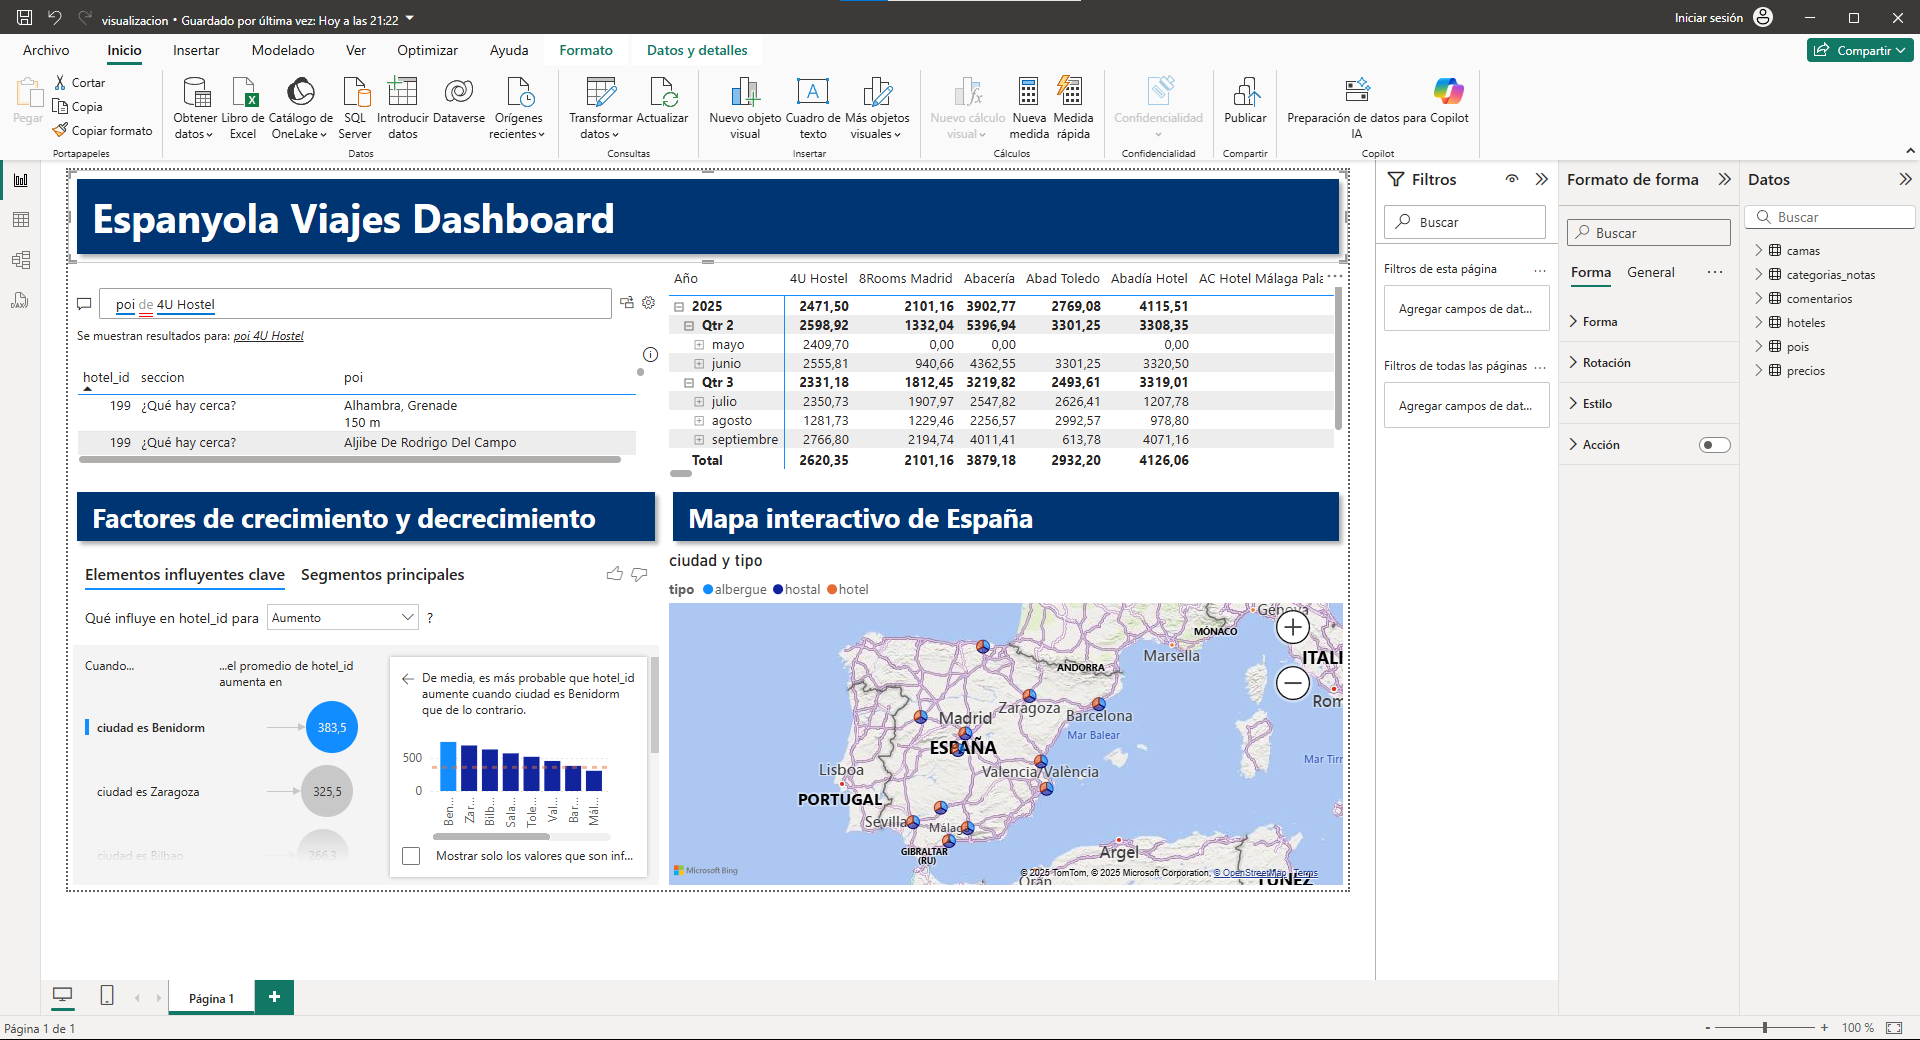

The page's visual inventory and layout, read from the dashboard file:
{"tool":"powerbi","page":{"name":"Página 1","canvas":[1280,720],"ordinal":0},"visuals":[{"type":"shape","box":[0.2,0,1279.8,92.9],"z":0},{"type":"shape","box":[0,313,596.3,67.2],"z":1000},{"type":"shape","box":[596.3,313,683.7,67.2],"z":2000},{"type":"qnaVisual","box":[0,93.1,596.3,219.9],"z":3000},{"type":"keyDriversVisual","fields":{"Target":["hoteles.hotel_id"],"ExplainBy":["hoteles.ciudad","hoteles.tipo"]},"box":[0,380.3,596.3,339.9],"z":4000},{"type":"map","fields":{"Category":["hoteles.ciudad"],"Series":["hoteles.tipo"]},"box":[596.3,380.3,683.7,339.9],"z":5000},{"type":"pivotTable","fields":{"Rows":["precios.fecha.Variación.Jerarquía de fechas.Año","precios.fecha.Variación.Jerarquía de fechas.Trimestre","precios.fecha.Variación.Jerarquía de fechas.Mes","precios.fecha.Variación.Jerarquía de fechas.Día"],"Values":["Sum(precios.precio)"],"Columns":["hoteles.nombre"]},"box":[596.3,93.1,683.7,219.9],"z":6000}]}

Visuals, with their boxes on the page's 1280x720 design canvas (x1, y1, x2, y2). These are canvas units, not pixel positions in the 1920x1040 screenshot, which may show the page scaled, cropped or inside an application window:
shape: bbox=(0, 0, 1280, 93)
shape: bbox=(0, 313, 596, 380)
shape: bbox=(596, 313, 1280, 380)
qnaVisual: bbox=(0, 93, 596, 313)
keyDriversVisual - hoteles.hotel_id x hoteles.ciudad: bbox=(0, 380, 596, 720)
map - hoteles.ciudad x hoteles.tipo: bbox=(596, 380, 1280, 720)
pivotTable - precios.fecha.Variación.Jerarquía de fechas.Año x precios.fecha.Variación.Jerarquía de fechas.Trimestre: bbox=(596, 93, 1280, 313)
